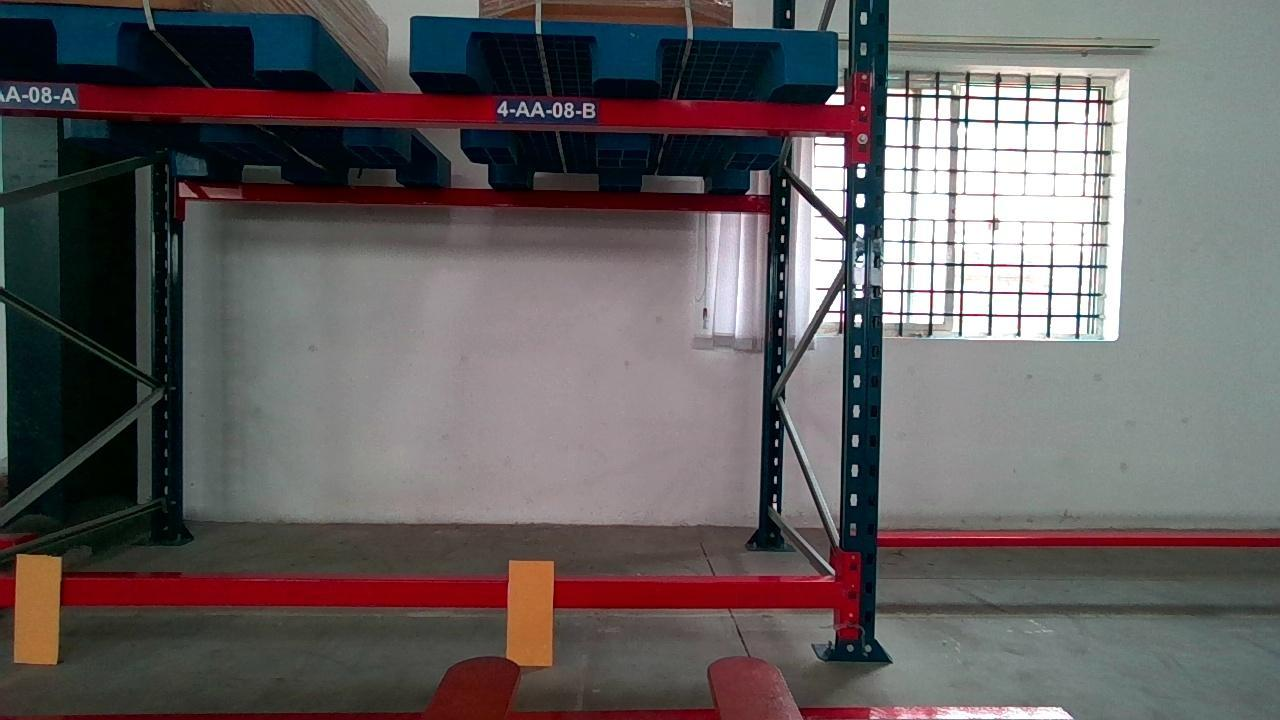h_rack: (3, 80, 857, 134), (64, 563, 833, 604)
orange_strip: (13, 551, 65, 667), (510, 559, 552, 671)
small_pallet: (408, 19, 840, 88), (1, 2, 317, 68)
